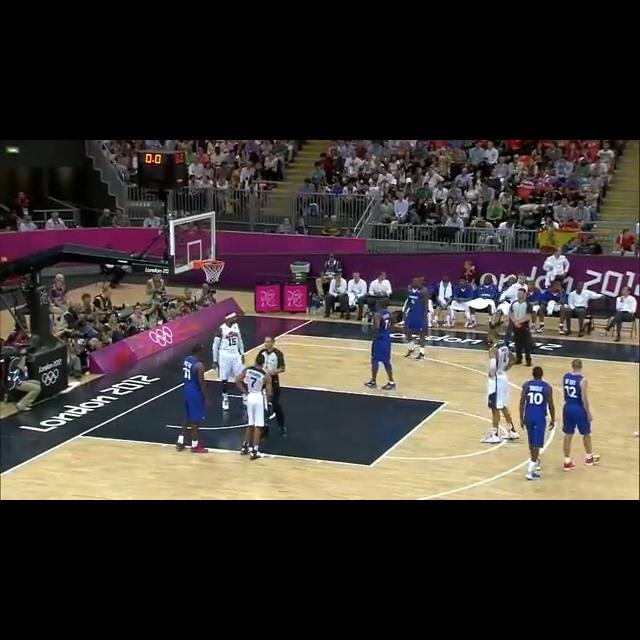hoop: (199, 259, 226, 284)
person: (558, 358, 599, 469), (522, 366, 557, 481), (482, 341, 518, 445), (178, 344, 210, 454), (235, 352, 267, 459), (257, 335, 287, 435), (606, 286, 640, 340), (542, 244, 571, 289), (347, 272, 368, 319), (370, 271, 393, 298), (616, 228, 637, 255), (43, 211, 66, 229), (142, 209, 161, 228), (111, 207, 129, 227), (98, 207, 114, 227)
